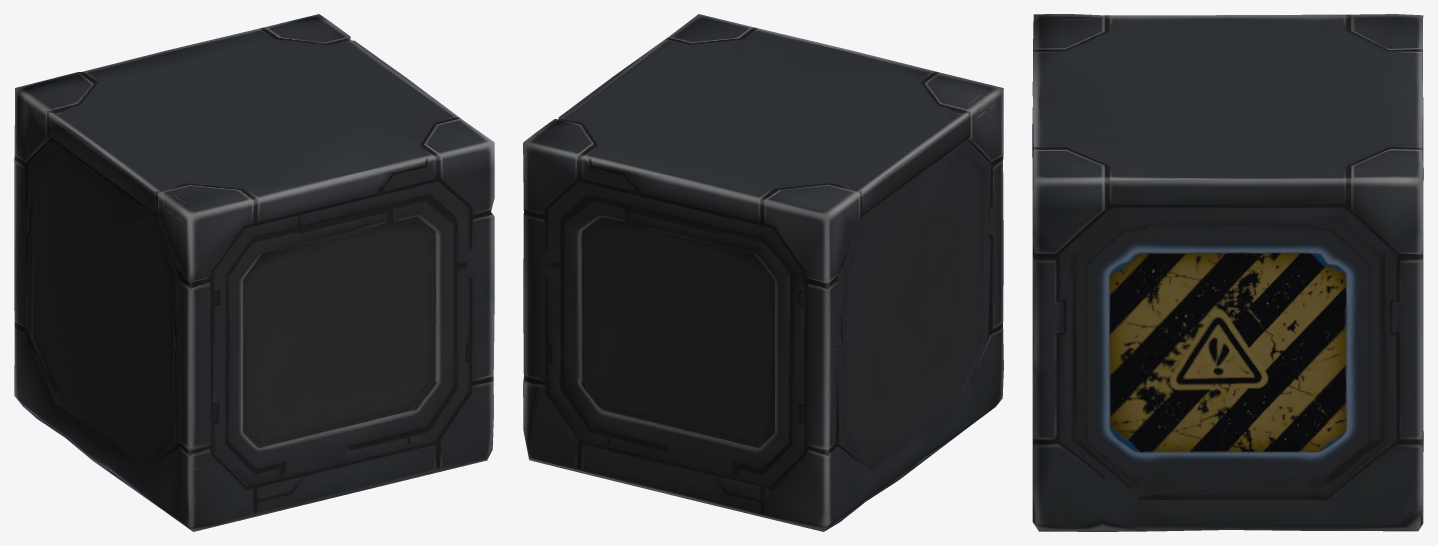
3 renders of one model, left to right at view 1: azimuth 30°, elevation 25°; view 2: azimuth 150°, elevation 25°; view 3: azimuth 270°, elevation 25°, orthographic. The views are drawn at different scales.
Visible parts, largest first — view 1: tripo_node_26e7becf; view 2: tripo_node_26e7becf; view 3: tripo_node_26e7becf.
Boxes of the visible parts, x1,y1,x2,y2 form: tripo_node_26e7becf: [14, 14, 494, 531]; tripo_node_26e7becf: [523, 14, 1003, 531]; tripo_node_26e7becf: [1032, 14, 1423, 531].
Size of the model in its own units: 0.9983 by 0.9995 by 0.9977.
1 material, 1 textured.
